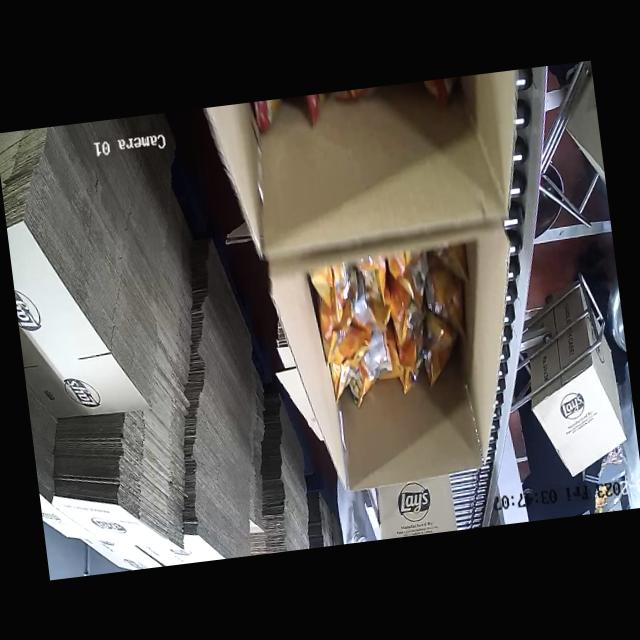cheese: (310, 248, 471, 410)
